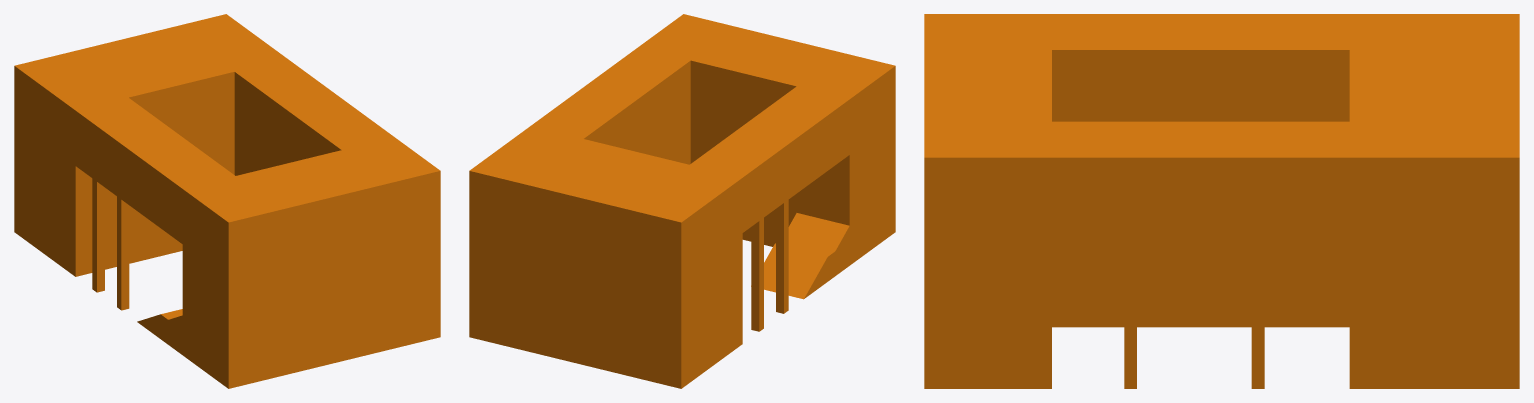
The model's file is ISCAS_building.dae.
3 renders of one model, left to right at view 1: azimuth 30°, elevation 25°; view 2: azimuth 150°, elevation 25°; view 3: azimuth 270°, elevation 25°, orthographic. The views are drawn at different scales.
Visible parts, largest first — view 1: building; view 2: building; view 3: building.
Boxes of the visible parts, left/top/right/bottom form: building: left=14, top=14, right=440, bottom=388; building: left=469, top=14, right=895, bottom=388; building: left=924, top=14, right=1519, bottom=388.
Size of the model in its own units: 40 by 70 by 30.
